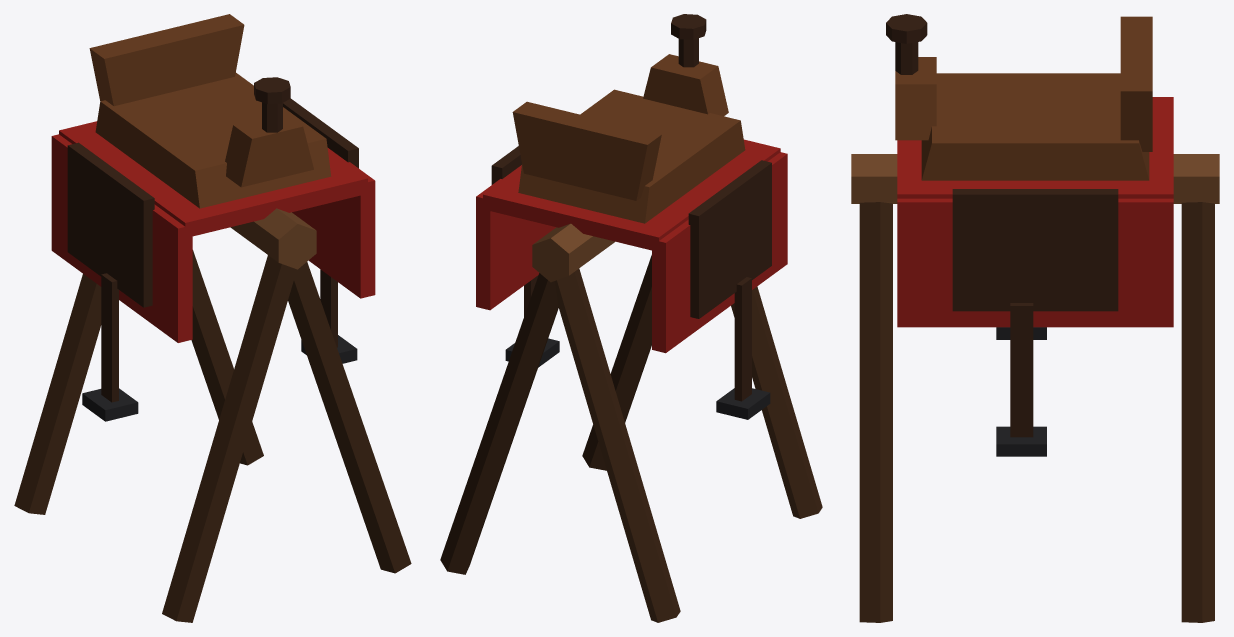
Rendered from SM_Saddle_Rack.obj.
3 renders of one model, left to right at view 1: azimuth 30°, elevation 25°; view 2: azimuth 150°, elevation 25°; view 3: azimuth 270°, elevation 25°, orthographic. The views are drawn at different scales.
Parts seen in each view (by area): view 1: SM_Saddle_Rack; view 2: SM_Saddle_Rack; view 3: SM_Saddle_Rack.
Part boxes in pixels (x1=…): SM_Saddle_Rack: x1=14, y1=14, x2=411, y2=622; SM_Saddle_Rack: x1=440, y1=14, x2=822, y2=622; SM_Saddle_Rack: x1=851, y1=14, x2=1219, y2=622.
Size of the model in its own units: 0.69 by 1.31 by 0.8.
